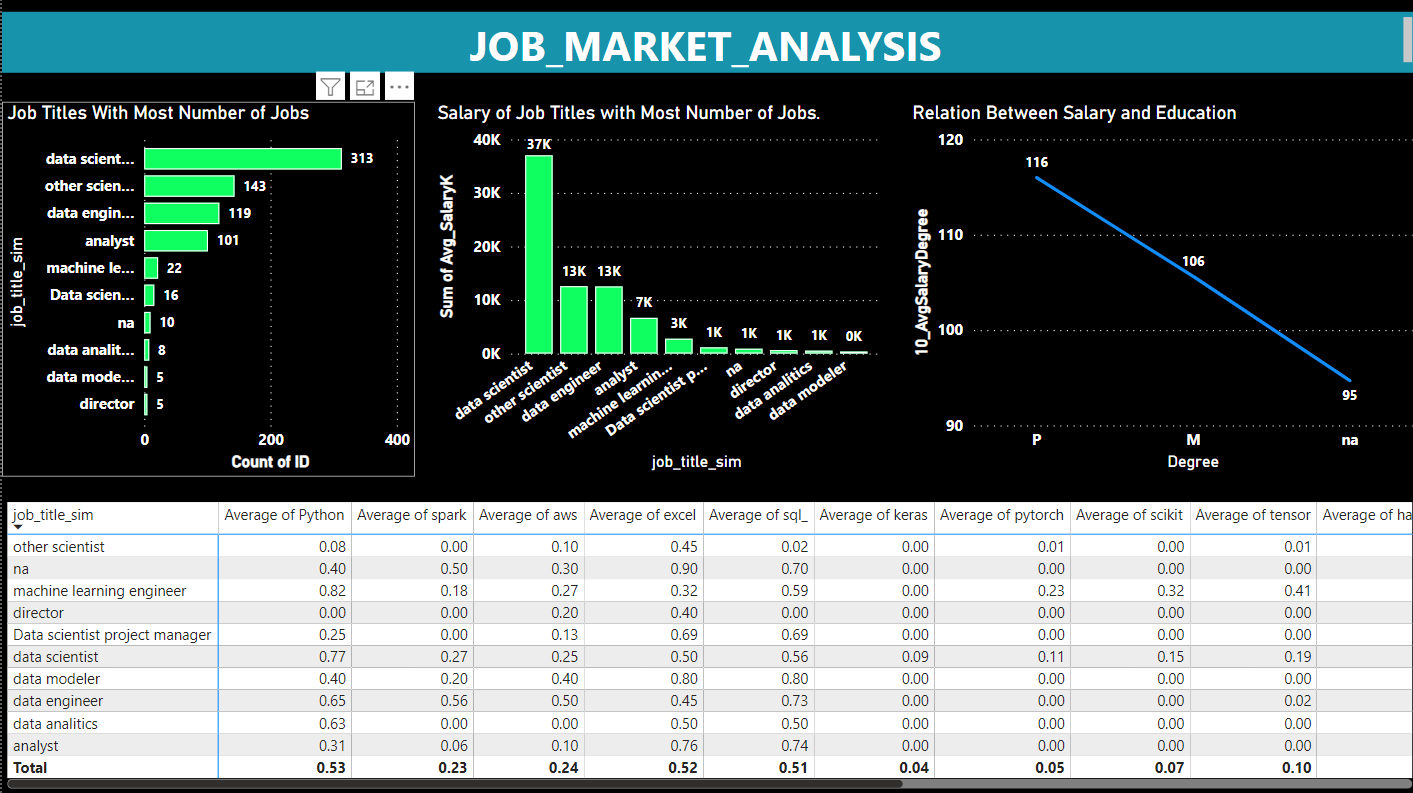

What the dashboard file says about the page in this screenshot:
{"tool":"powerbi","page":{"name":"2_JMA","canvas":[1280,720],"ordinal":1},"visuals":[{"type":"textbox","box":[0,12.2,1280.3,55],"z":0},{"type":"barChart","title":"Job Titles With Most Number of Jobs","fields":{"Y":["CountNonNull(Job_Market_Analysis.ID)"],"Category":["Job_Market_Analysis.job_title_sim"]},"box":[0,94.2,374.2,338.7],"z":6000},{"type":"pivotTable","fields":{"Rows":["Job_Market_Analysis.job_title_sim"],"Values":["Avg(Job_Market_Analysis.Python)","Avg(Job_Market_Analysis.spark)","Avg(Job_Market_Analysis.aws)","Avg(Job_Market_Analysis.excel)","Avg(Job_Market_Analysis.sql_)","Avg(Job_Market_Analysis.keras)","Avg(Job_Market_Analysis.pytorch)","Avg(Job_Market_Analysis.scikit)","Avg(Job_Market_Analysis.tensor)","Avg(Job_Market_Analysis.hadoop)","Avg(Job_Market_Analysis.tableau)","Avg(Job_Market_Analysis.bi)"]},"box":[0,451.2,1280.3,269],"z":7000},{"type":"columnChart","title":"Salary of Job Titles with Most Number of Jobs.","fields":{"Category":["Job_Market_Analysis.job_title_sim"],"Y":["Sum(Job_Market_Analysis.Avg_SalaryK)"]},"box":[388.9,94.2,412.1,338.7],"z":8000},{"type":"lineChart","title":"Relation Between Salary and Education","fields":{"Category":["Job_Market_Analysis.Degree"],"Y":["Job_Market_Analysis.10_AvgSalaryDegree"]},"box":[818.1,94.2,462.2,338.7],"z":9000}]}

Visuals, with their boxes on the page's 1280x720 design canvas (x1, y1, x2, y2). These are canvas units, not pixel positions in the 1413x793 screenshot, which may show the page scaled, cropped or inside an application window:
textbox: <box>0,12,1280,67</box>
"Job Titles With Most Number of Jobs" barChart: <box>0,94,374,433</box>
pivotTable - Job_Market_Analysis.job_title_sim x Avg(Job_Market_Analysis.Python): <box>0,451,1280,720</box>
"Salary of Job Titles with Most Number of Jobs." columnChart: <box>389,94,801,433</box>
"Relation Between Salary and Education" lineChart: <box>818,94,1280,433</box>
